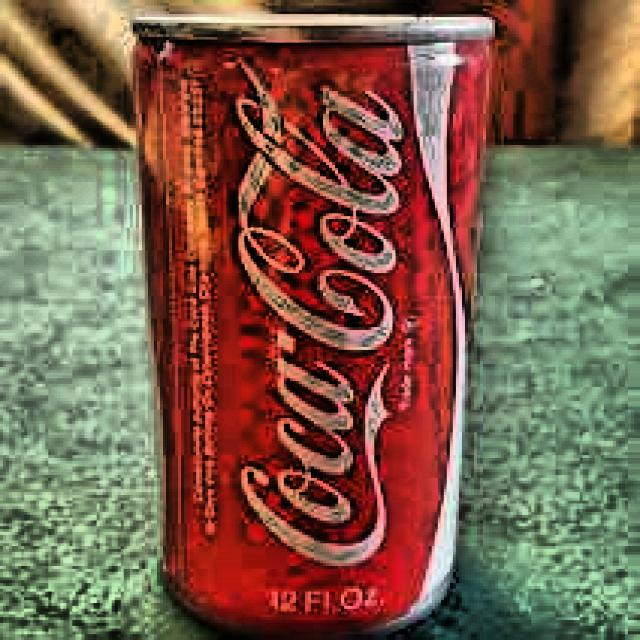Cans: (118, 6, 491, 640)
